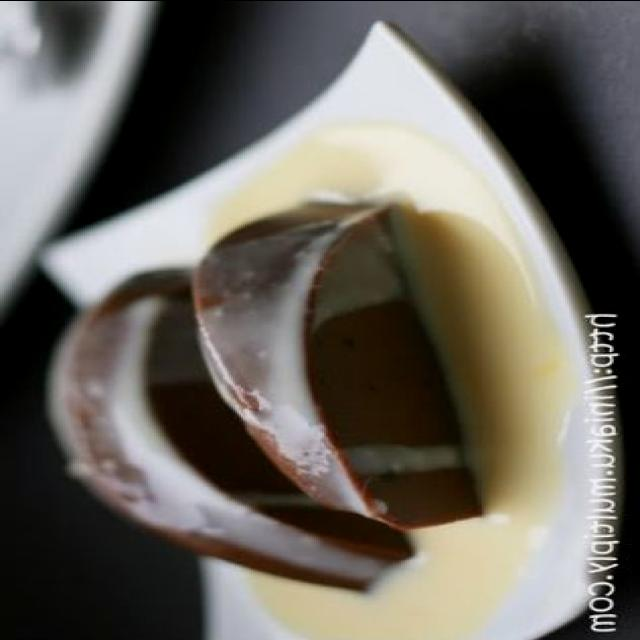puding: (49, 266, 415, 595), (188, 194, 490, 532)
